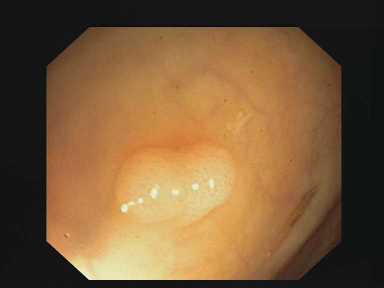polyp: (88, 114, 270, 253)
